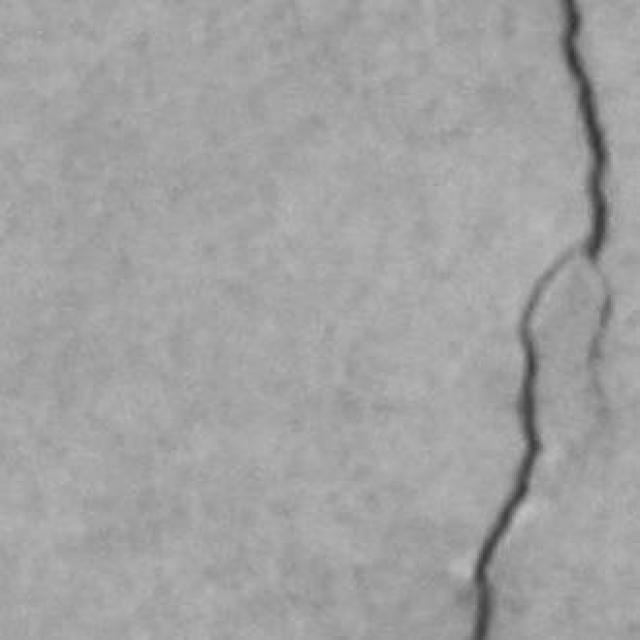crack: (472, 0, 610, 639), (472, 247, 575, 639)
